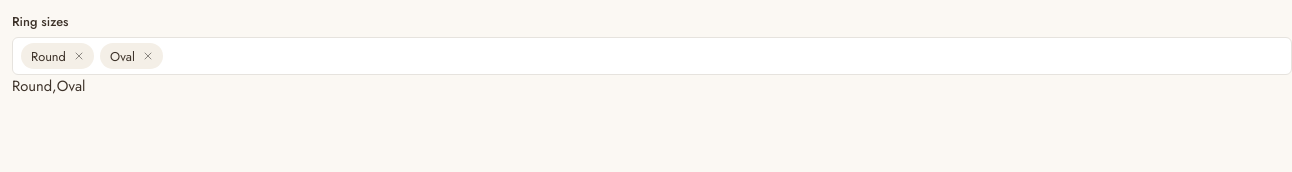
Test case: TagInput › removes a value with its × button
The image size is (1292, 172).
Click the button named "Remove Round".
click(79, 56)  # box [70, 47, 88, 65]
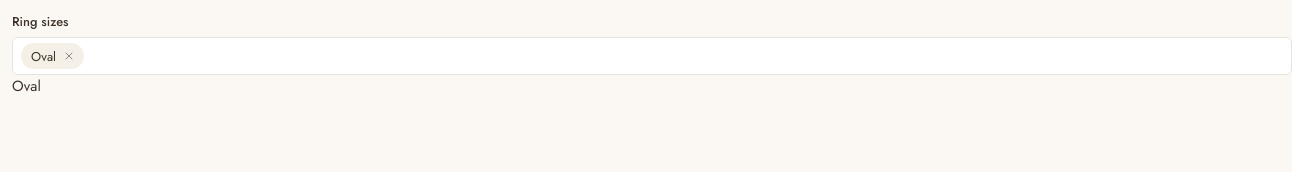
Result: the text "Oval" is shown at [12, 75, 41, 97]
